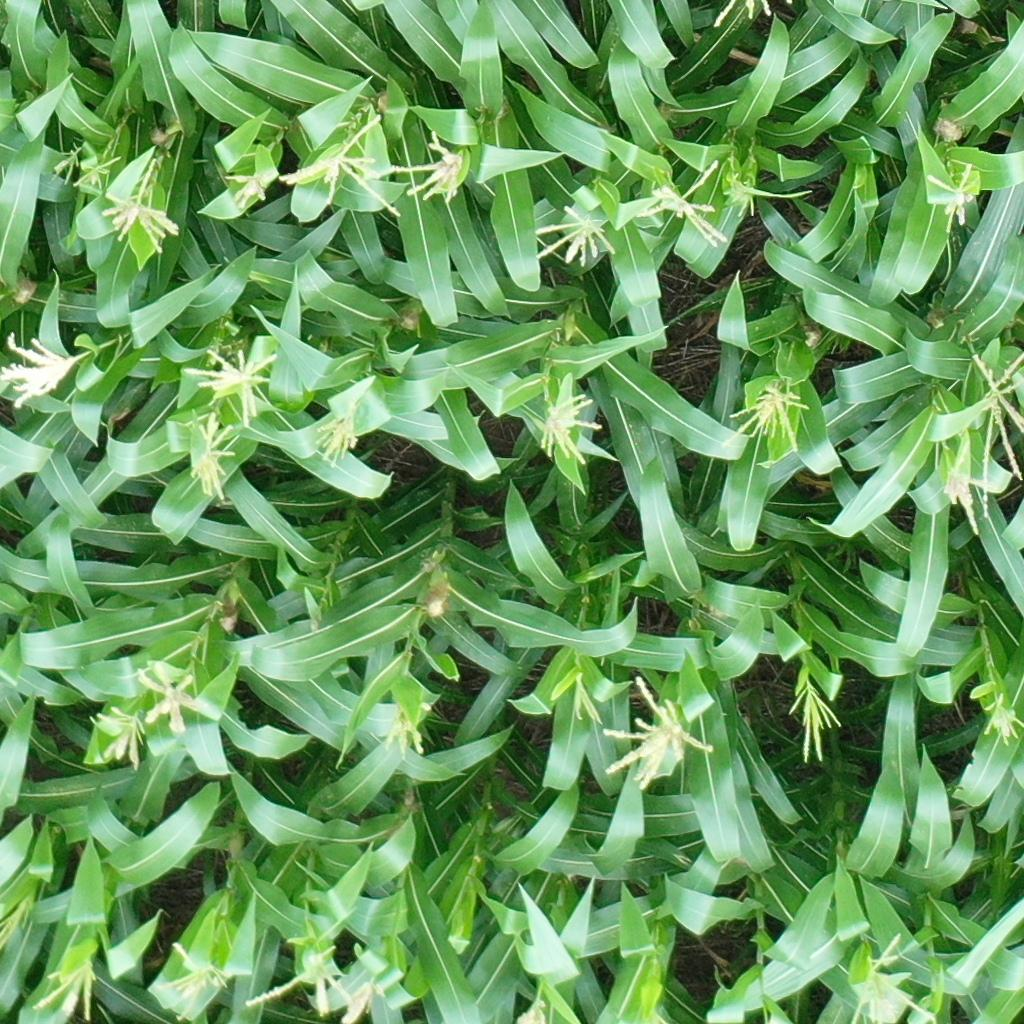Tassel: (597, 673, 716, 791), (279, 112, 400, 222), (964, 350, 1024, 516), (634, 156, 731, 249), (180, 338, 282, 424), (842, 932, 935, 1024), (98, 157, 182, 255), (243, 951, 355, 1018), (719, 381, 811, 454), (134, 660, 221, 732), (1, 332, 80, 409), (530, 202, 617, 269), (391, 130, 468, 204), (26, 949, 102, 1022), (158, 940, 228, 1017), (784, 684, 845, 766), (185, 409, 237, 504), (914, 161, 977, 236), (539, 390, 601, 465), (935, 460, 990, 534), (87, 701, 147, 766), (310, 400, 362, 466), (371, 715, 430, 762), (978, 692, 1024, 747), (218, 170, 269, 215), (567, 672, 606, 728), (721, 172, 769, 217), (71, 154, 121, 196), (343, 979, 386, 1024), (1, 898, 33, 951), (45, 147, 79, 185), (514, 997, 553, 1024)
